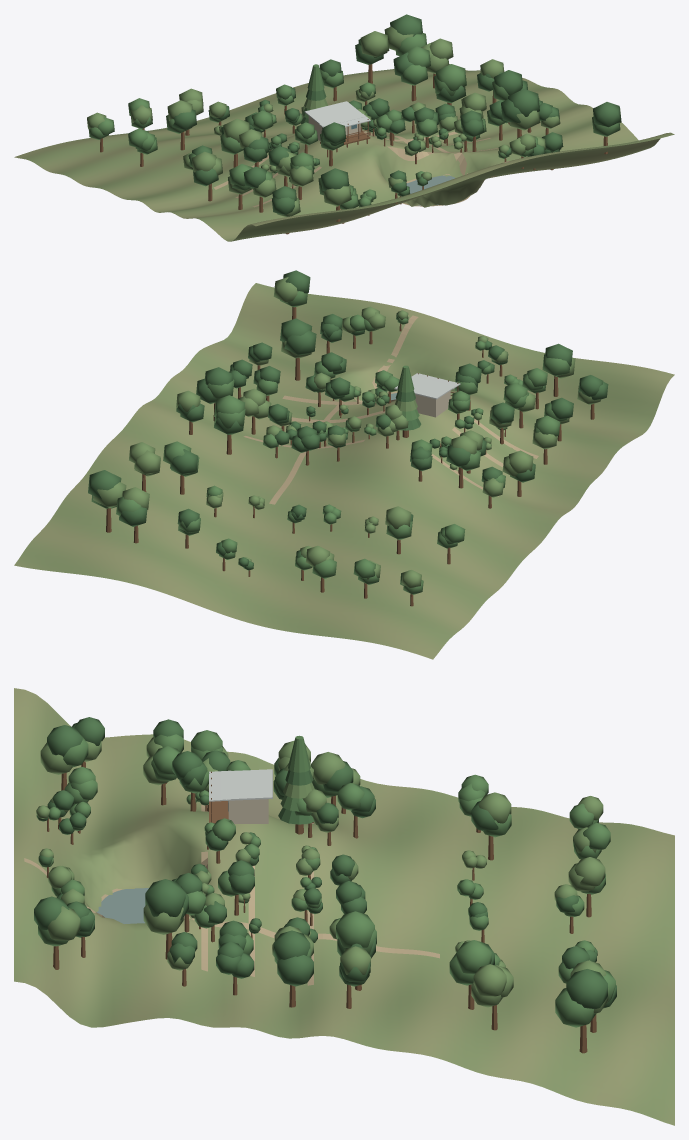
Rendered from hilltop-property-v1.glb.
3 views of the same model, one above another, from view 1: azimuth 30°, elevation 25°; view 2: azimuth 150°, elevation 25°; view 3: azimuth 270°, elevation 25° (orthographic). The views are drawn at different scales.
Parts seen in each view (by area): view 1: Runtime Terraced grass, Runtime Canopy tone 0, Runtime Canopy tone 2, Runtime Canopy tone 1, Runtime Veranda timber, Runtime Dry mulch and paths, Runtime Pale metal roof, Runtime Pond water; view 2: Runtime Terraced grass, Runtime Canopy tone 0, Runtime Canopy tone 1, Runtime Canopy tone 2, Runtime Veranda timber, Runtime Dry mulch and paths, Runtime Pale metal roof, Runtime House pale weatherboards; view 3: Runtime Terraced grass, Runtime Canopy tone 0, Runtime Canopy tone 1, Runtime Canopy tone 2, Runtime Veranda timber, Runtime Pale metal roof, Runtime Dry mulch and paths, Runtime Pond water, Runtime House pale weatherboards.
Part boxes in pixels (<box>): Runtime Terraced grass: <box>14,64,674,241</box>; Runtime Canopy tone 0: <box>172,14,621,214</box>; Runtime Canopy tone 2: <box>87,26,621,216</box>; Runtime Canopy tone 1: <box>88,33,620,209</box>; Runtime Veranda timber: <box>100,64,607,234</box>; Runtime Dry mulch and paths: <box>213,130,509,207</box>; Runtime Pale metal roof: <box>304,101,370,127</box>; Runtime Pond water: <box>406,175,455,205</box>; Runtime Terraced grass: <box>14,283,674,659</box>; Runtime Canopy tone 0: <box>88,270,608,570</box>; Runtime Canopy tone 1: <box>91,291,569,594</box>; Runtime Canopy tone 2: <box>93,277,600,588</box>; Runtime Veranda timber: <box>106,307,594,606</box>; Runtime Dry mulch and paths: <box>243,315,538,504</box>; Runtime Pale metal roof: <box>394,373,460,399</box>; Runtime House pale weatherboards: <box>415,391,450,417</box>; Runtime Terraced grass: <box>14,688,674,1125</box>; Runtime Canopy tone 0: <box>34,717,616,1009</box>; Runtime Canopy tone 1: <box>38,730,615,1027</box>; Runtime Canopy tone 2: <box>36,737,608,1013</box>; Runtime Veranda timber: <box>46,761,596,1053</box>; Runtime Pale metal roof: <box>209,769,272,801</box>; Runtime Dry mulch and paths: <box>24,804,439,985</box>; Runtime Pond water: <box>97,888,148,923</box>; Runtime House pale weatherboards: <box>228,799,268,823</box>.
Size of the model in its own units: 56 by 20.5 by 56.
